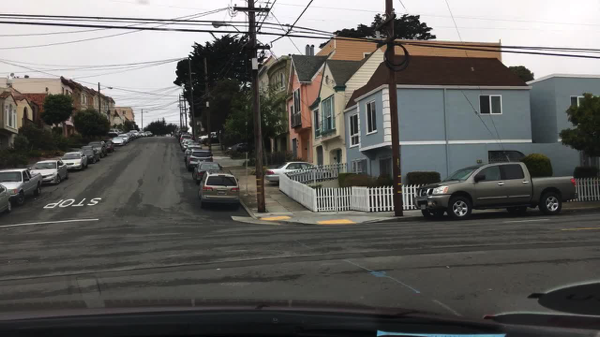car: (196, 170, 242, 211), (264, 160, 326, 186), (27, 159, 70, 187), (191, 160, 224, 186), (185, 149, 214, 171), (61, 151, 89, 171), (77, 145, 102, 165), (0, 183, 14, 215), (87, 140, 110, 159), (223, 142, 250, 157), (200, 134, 223, 147), (197, 131, 219, 144), (97, 139, 115, 154), (183, 143, 203, 155), (110, 136, 127, 147), (176, 132, 190, 144), (179, 138, 193, 149), (183, 140, 195, 152), (118, 133, 130, 144), (174, 130, 187, 140), (179, 134, 192, 144), (125, 132, 137, 141), (129, 130, 140, 139), (109, 128, 124, 134), (108, 129, 118, 138), (138, 130, 145, 138), (145, 130, 152, 137), (144, 132, 148, 138)
truck: (411, 161, 579, 221), (0, 166, 44, 207)
